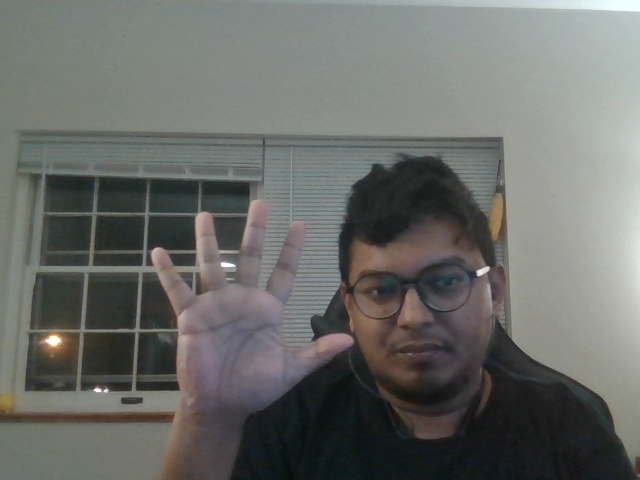hello: (141, 201, 360, 414)
